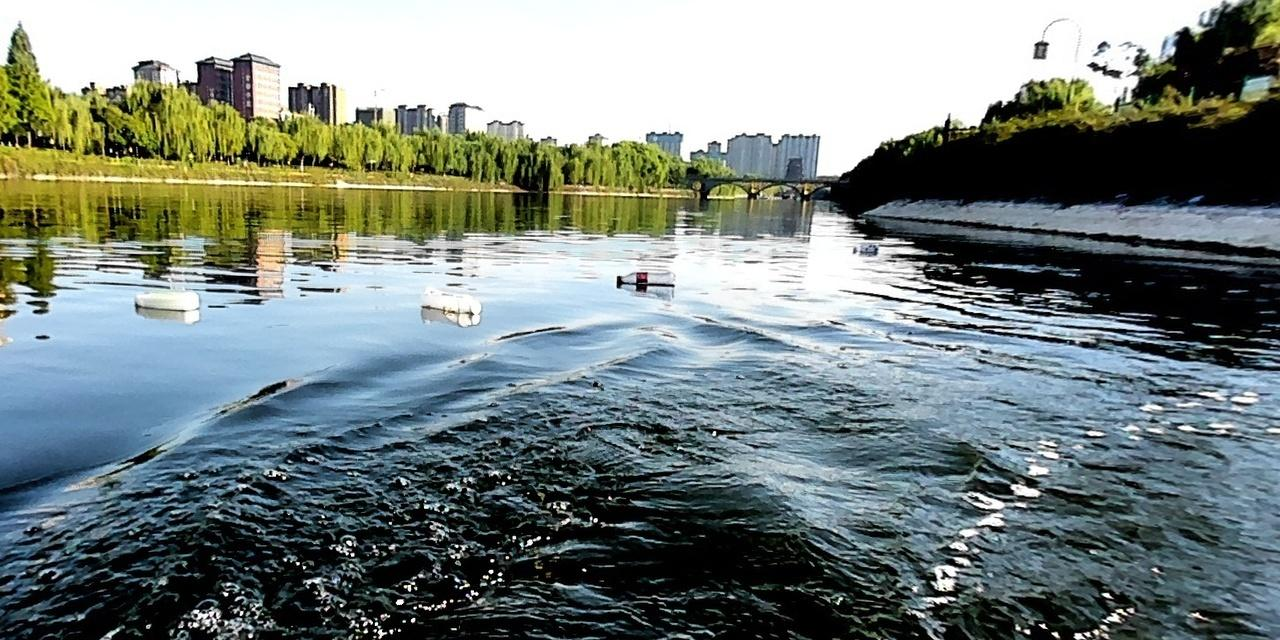bottle: (417, 280, 485, 319), (130, 285, 199, 311), (613, 264, 678, 289), (849, 239, 881, 253)
